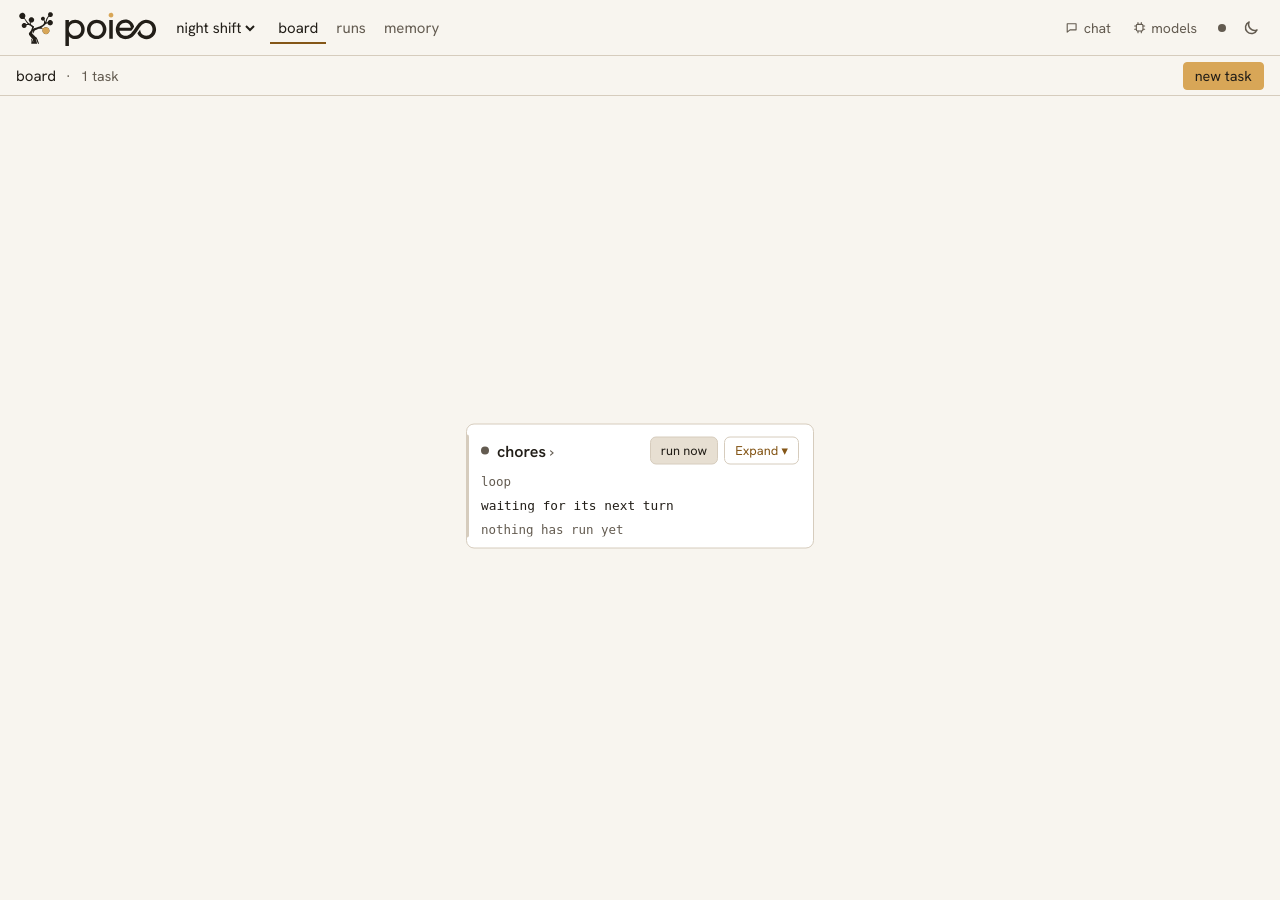
Test: closing the panel restores the control that opened it
This screenshot has width=1280, height=900.
What coordinates should you click on to do the following:
click the button "models"
I would click on:
 (1165, 28)
Its box is 1124,14 -> 1206,40.
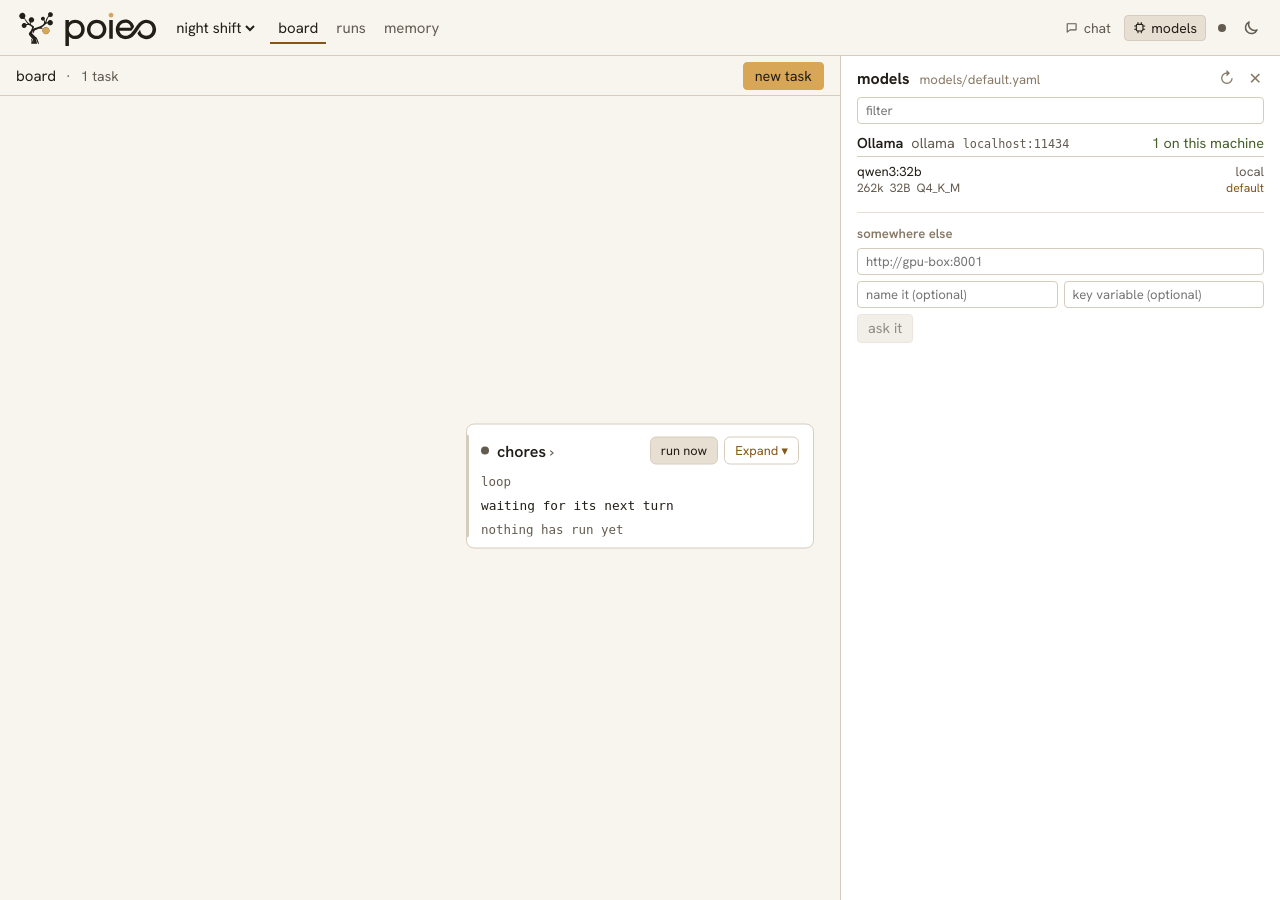
Now the element with class "shell-stage" has attribute data-drawer="true"
What coordinates should you click on to do the following:
click the button with class "models-close"
I would click on:
 (1255, 78)
Its box is 1247,68 -> 1264,89.
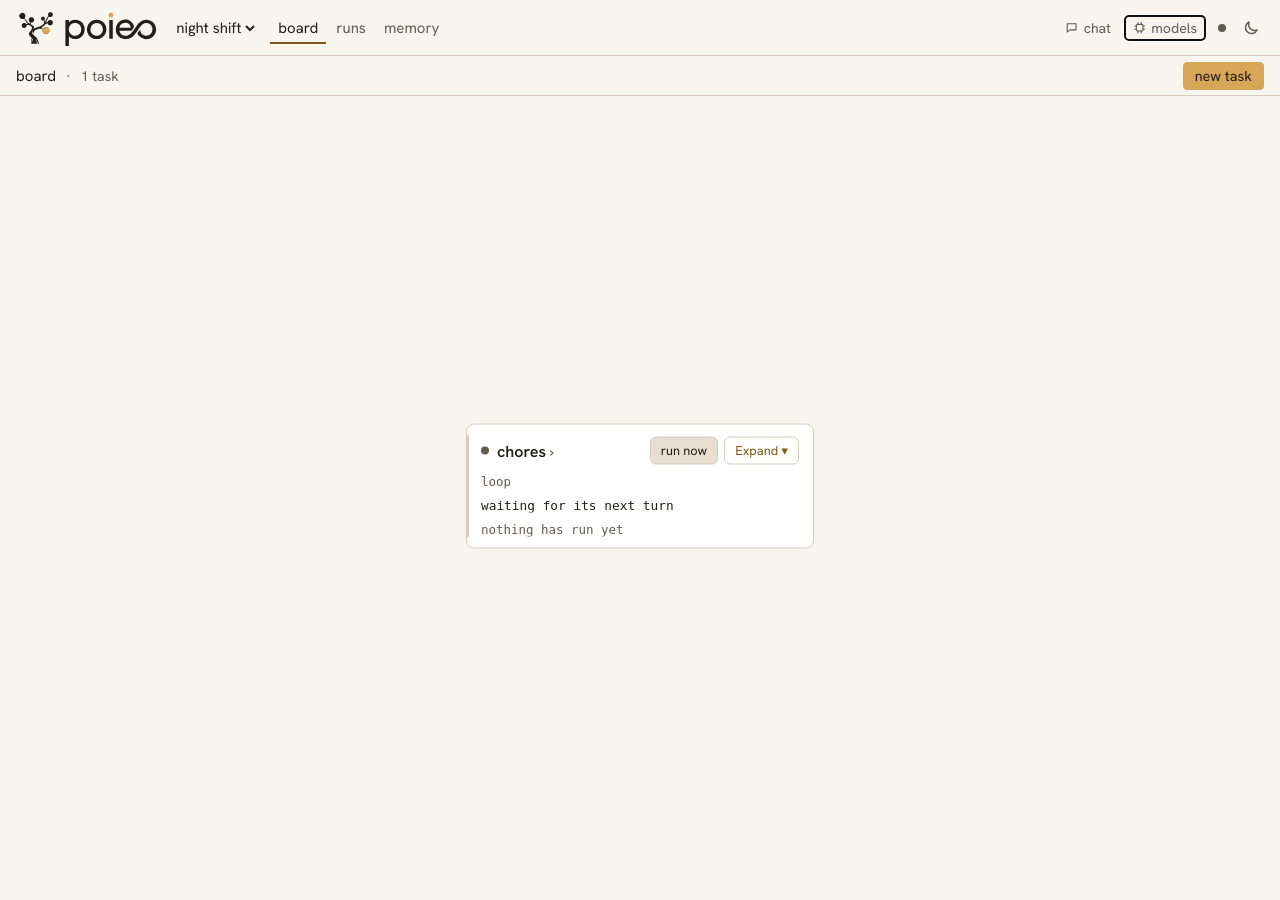
Now the search field with class "models" is gone
